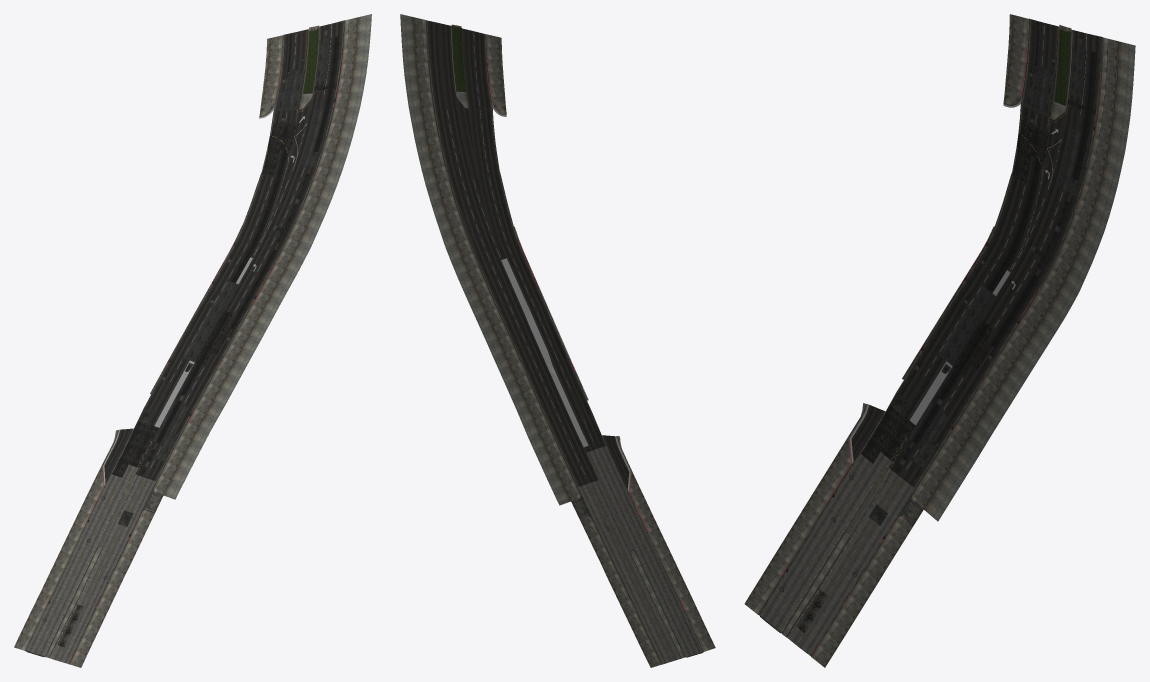
The picture shows the model from 3 angles, left to right: view 1: azimuth 30°, elevation 25°; view 2: azimuth 150°, elevation 25°; view 3: azimuth 330°, elevation 25°; orthographic projection. The views are drawn at different scales.
Visible parts, largest first — view 1: sc1_rd_r1_08; view 2: sc1_rd_r1_08; view 3: sc1_rd_r1_08.
Part boxes in pixels (box(x1,y1,x2,y2)): sc1_rd_r1_08: box(14, 14, 371, 667); sc1_rd_r1_08: box(400, 14, 715, 667); sc1_rd_r1_08: box(744, 14, 1135, 667).
Size of the model in its own units: 15607 by 26178 by 1317.
